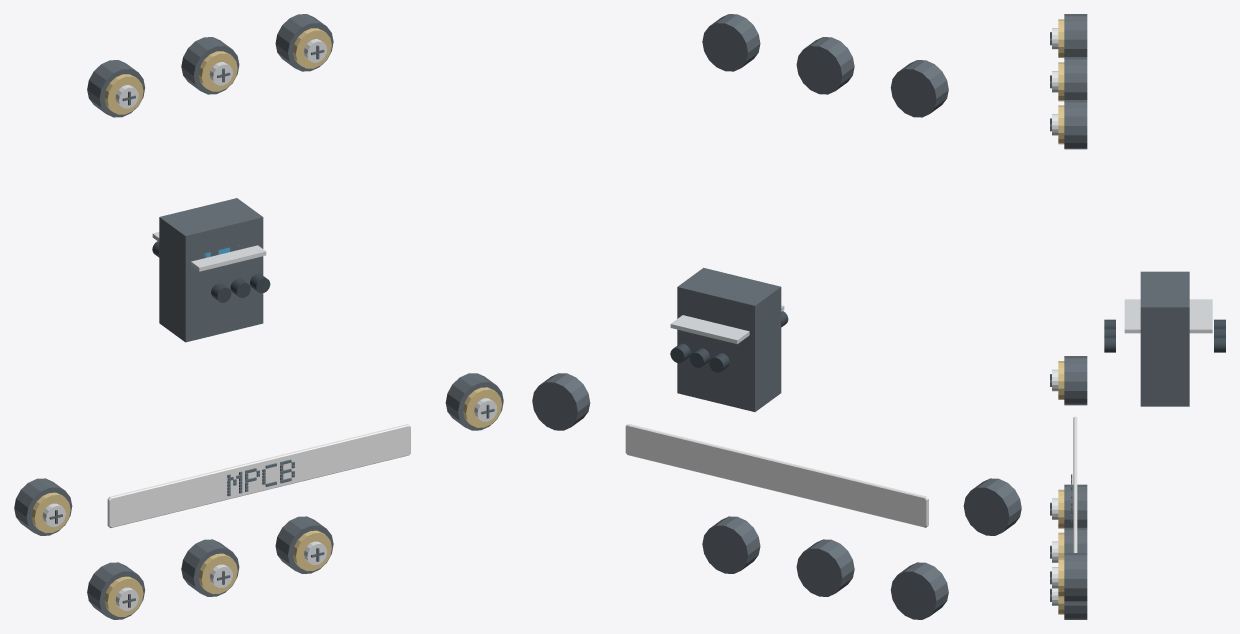
The model's file is motorBreaker.glb.
3 renders of one model, left to right at view 1: azimuth 30°, elevation 25°; view 2: azimuth 150°, elevation 25°; view 3: azimuth 270°, elevation 25°, orthographic. The views are drawn at different scales.
Visible parts, largest first — view 1: motorBreaker-preview; view 2: motorBreaker-preview; view 3: motorBreaker-preview.
Part boxes in pixels (box(x1,y1,x2,y2)): motorBreaker-preview: box(14, 14, 503, 619); motorBreaker-preview: box(532, 14, 1021, 619); motorBreaker-preview: box(1050, 14, 1225, 619).
Bounding box in the file's own units: 3.27 × 3.61 × 1.11.
